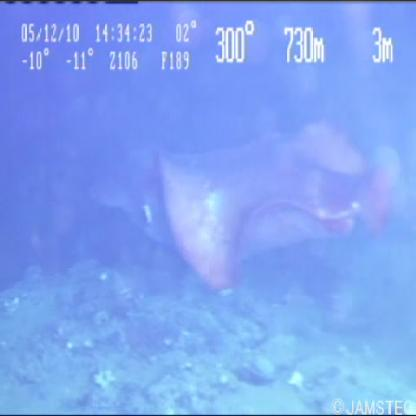Bio: (82, 112, 409, 304)
